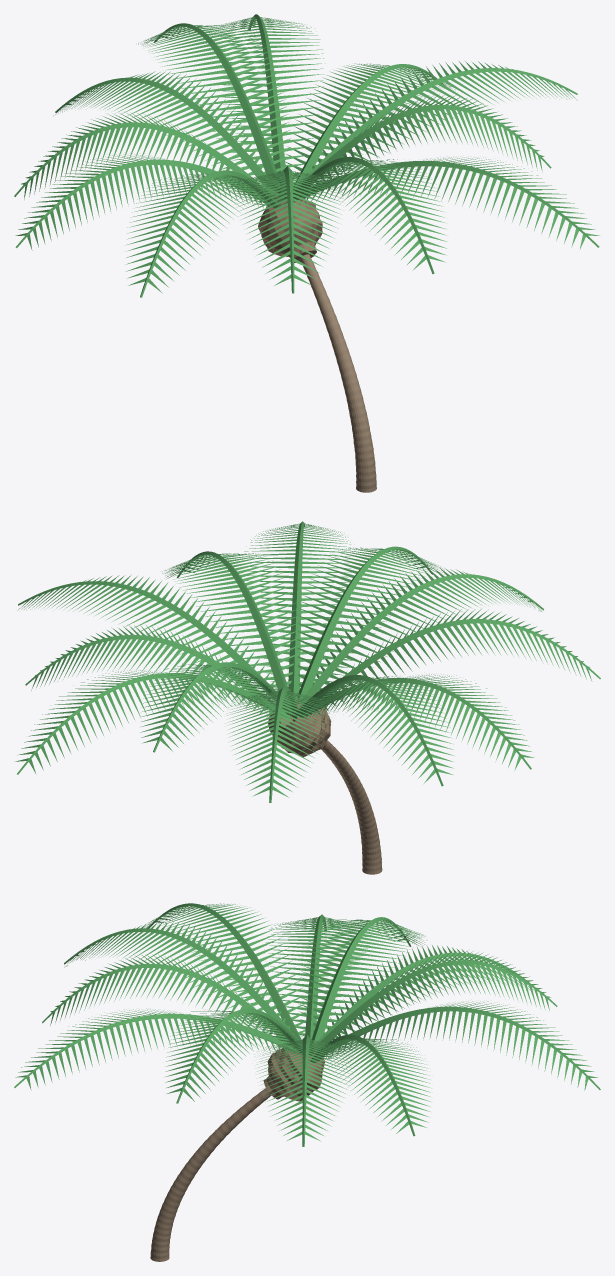
The picture shows the model from 3 angles, top to bottom: view 1: azimuth 30°, elevation 25°; view 2: azimuth 150°, elevation 25°; view 3: azimuth 270°, elevation 25°; orthographic projection. The views are drawn at different scales.
Parts seen in each view (by area): view 1: fronds, trunk, crown_base; view 2: fronds, trunk, crown_base; view 3: fronds, trunk, crown_base.
Boxes of the visible parts, <box> form: fronds: <box>14,14,599,297</box>; trunk: <box>300,254,376,492</box>; crown_base: <box>258,196,322,262</box>; fronds: <box>14,521,600,802</box>; trunk: <box>321,740,382,874</box>; crown_base: <box>268,698,331,757</box>; fronds: <box>14,903,600,1146</box>; trunk: <box>150,1088,271,1261</box>; crown_base: <box>263,1047,324,1101</box>.
Size of the model in its own units: 14.82 by 8.57 by 15.2.
